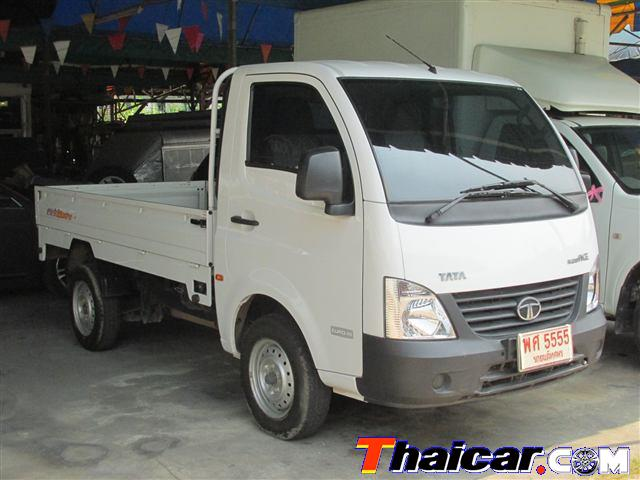pickup: (34, 56, 606, 434)
